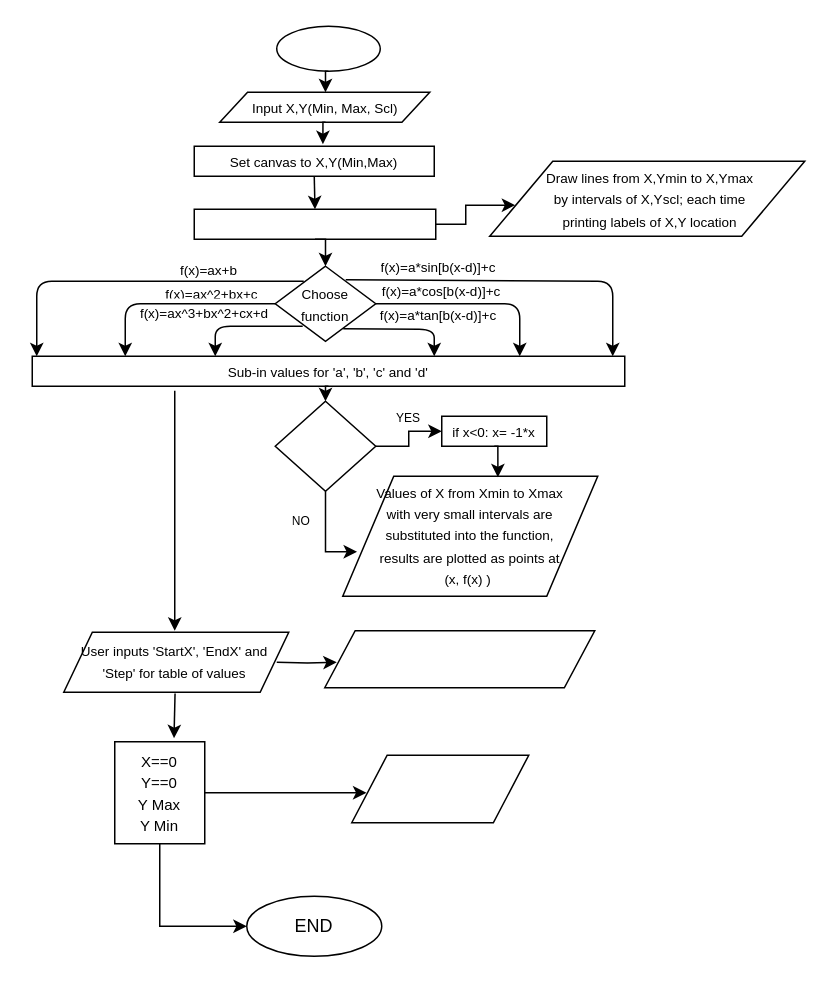
Some shapes in this 831 by 983 pixel diagram are drawn without their labels. Each missing label, with the centre of its shape:
"(X,Ymax-X,Ymin) / (X,Yscl)" belongs at [314,223].
"Absolute?" belongs at [325,445].
"For every 'Step', print values of (x, f(x) ) on separate lines" belongs at [459,658].
"Print intercepts and Max / Min values" belongs at [439,788].
"START" belongs at [327,48].
